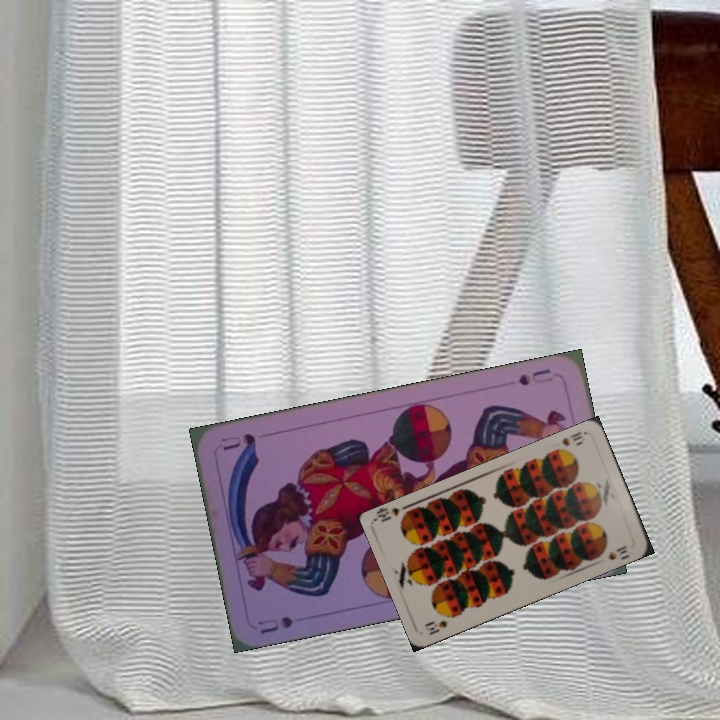S10: (551, 427, 588, 456), (421, 616, 450, 637)
SU: (254, 612, 296, 636), (514, 365, 553, 388)
